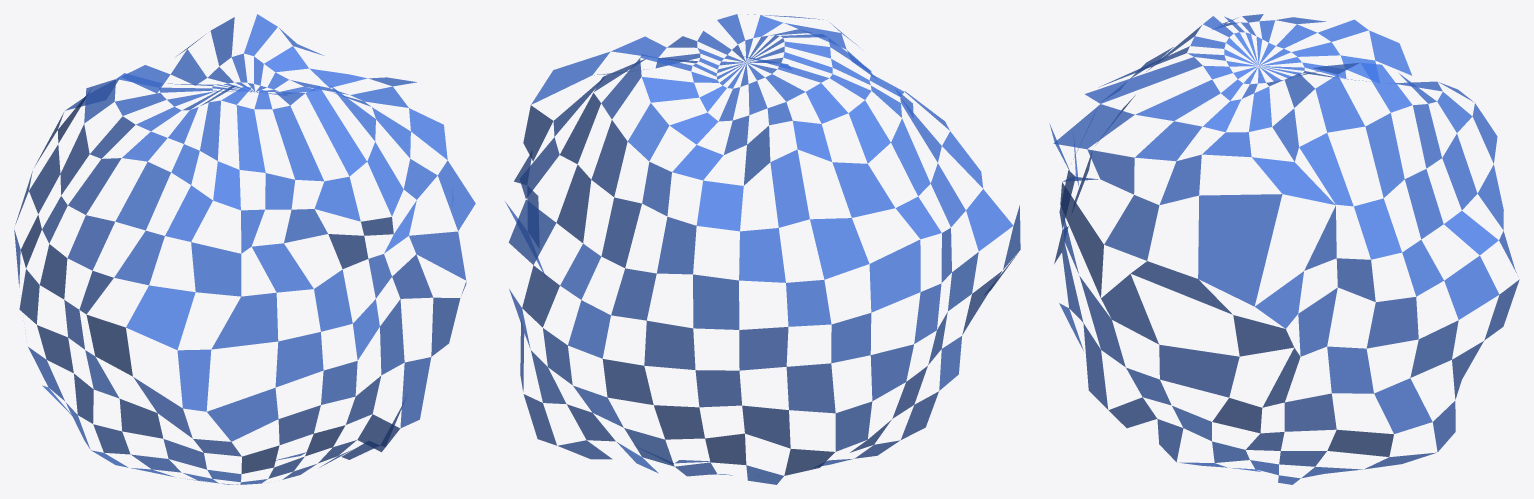
The model's file is entity_c2.glb.
The picture shows the model from 3 angles, left to right: view 1: azimuth 30°, elevation 25°; view 2: azimuth 150°, elevation 25°; view 3: azimuth 270°, elevation 25°; orthographic projection. The views are drawn at different scales.
Visible parts, largest first — view 1: entity1_2; view 2: entity1_2; view 3: entity1_2.
Boxes of the visible parts, box(x1,y1,x2,y2) form: entity1_2: box(14, 14, 475, 484); entity1_2: box(505, 14, 1020, 484); entity1_2: box(1049, 14, 1519, 484).
Size of the model in its own units: 1.26 by 1.17 by 1.18.
